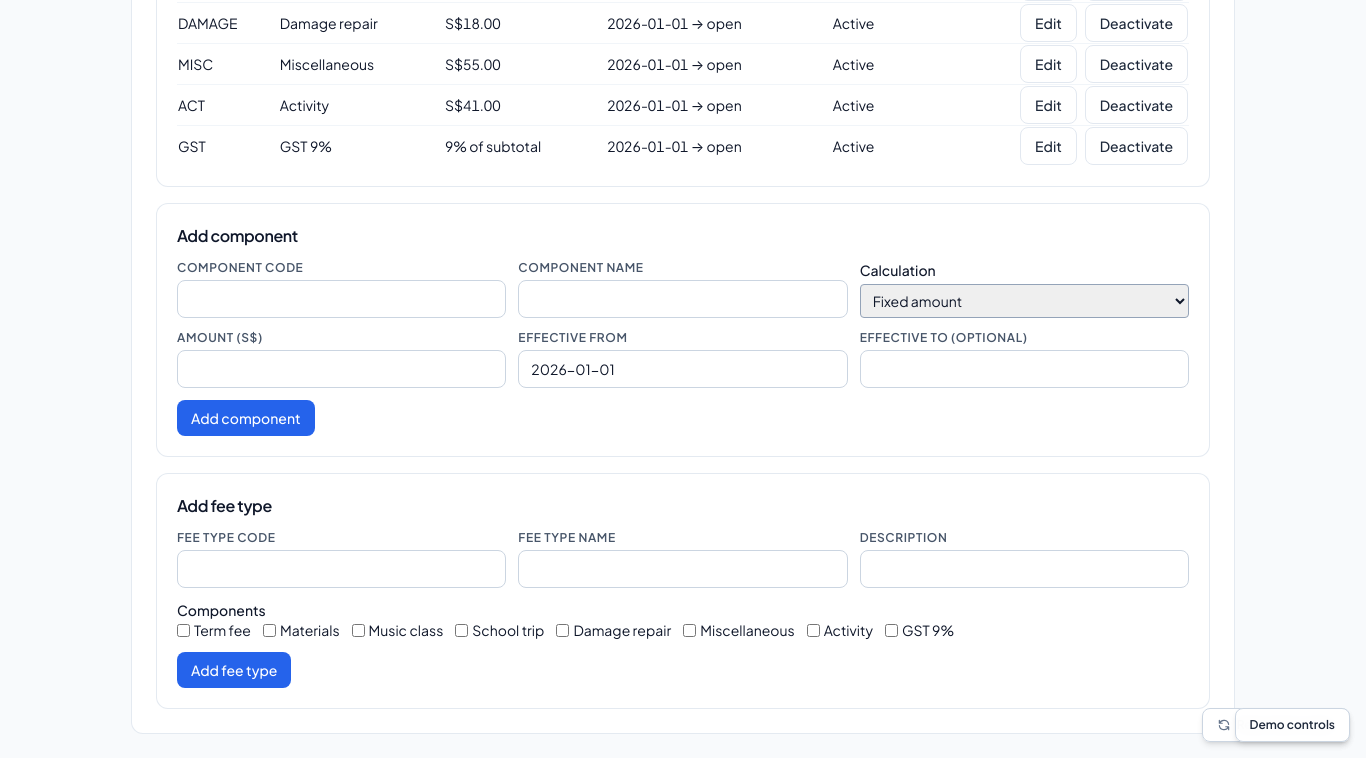
Scenario: a validation error from the service is shown
(page scrolled)
Click the button "Add component": (246, 418) [177,400,315,436]
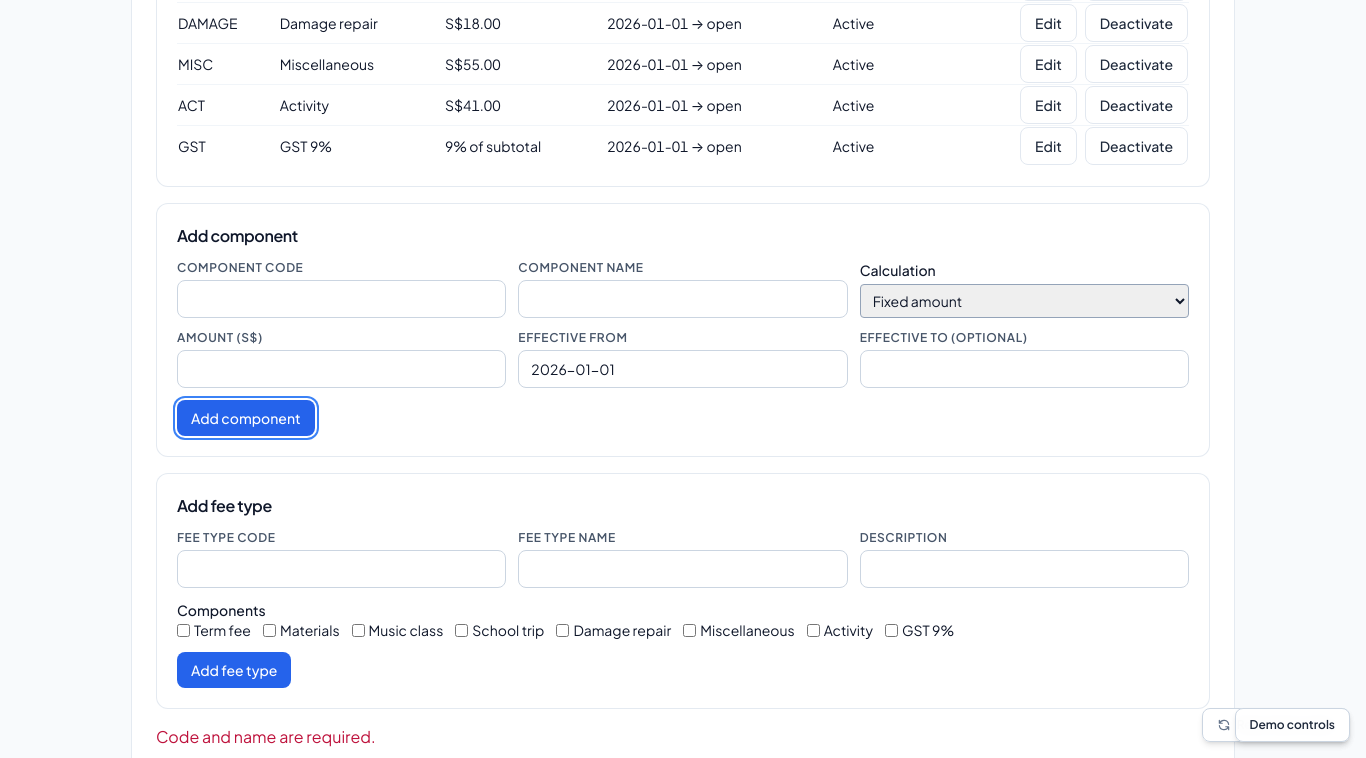
Check: the message shows "Code and name are required", box [156,726,376,747]
